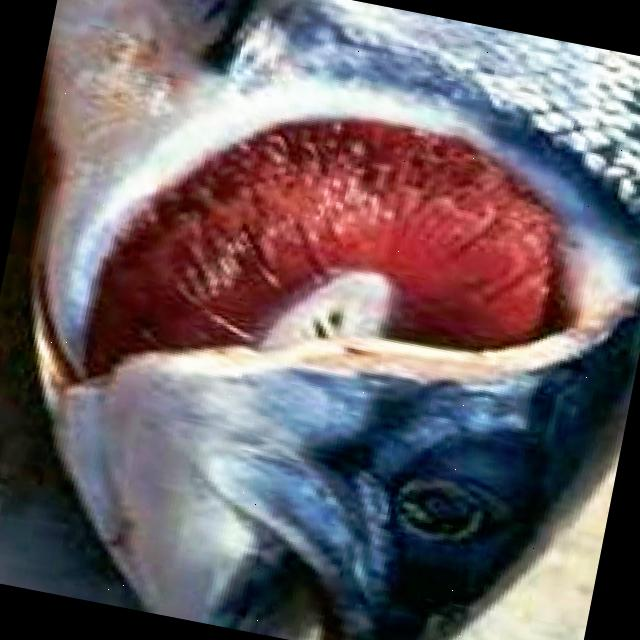Flavobacterium -Bacterial Gill Disease-: (34, 0, 640, 640), (34, 0, 640, 640)
